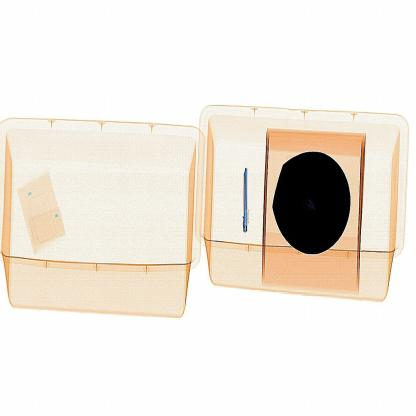pliers: (232, 153, 258, 236)
